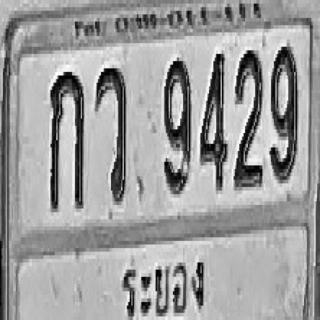A01: (49, 68, 84, 209)
A37: (94, 65, 126, 201)
N02: (234, 45, 263, 185)
N04: (200, 49, 227, 189)
N09: (270, 43, 297, 180), (164, 56, 191, 192)
P53: (115, 245, 207, 320)
